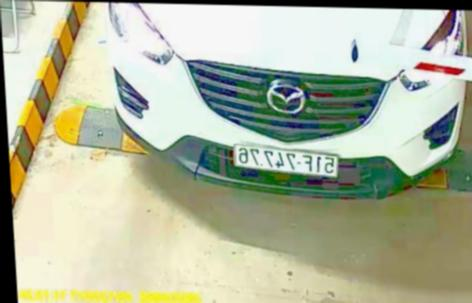License_Plate: (229, 145, 342, 171)
